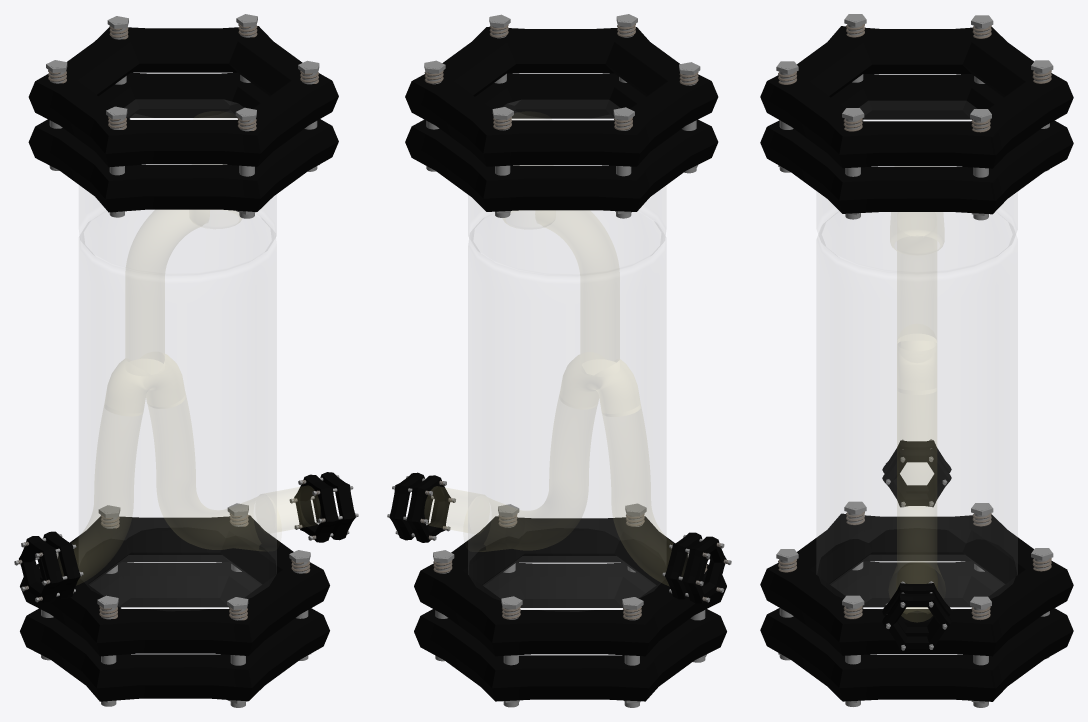
Rendered from ProductCooler(1).fbx.
The picture shows the model from 3 angles, left to right: view 1: azimuth 30°, elevation 25°; view 2: azimuth 150°, elevation 25°; view 3: azimuth 270°, elevation 25°; orthographic projection.
Visible parts, largest first — view 1: pCylinder17, pasted__t1 (×4), pasted__t2 (×4), pCylinder14, pCylinder12, pCylinder2, pCylinder8, pCylinder18; view 2: pCylinder17, pasted__t1 (×4), pasted__t2 (×4), pCylinder14, pCylinder2, pCylinder12, pCylinder8, pCylinder18; view 3: pCylinder17, pasted__t1 (×4), pasted__t2 (×4), pCylinder14, pCylinder12, pCylinder10, pCylinder8, pCylinder18.
Boxes of the visible parts, left/top/right/bottom form: pCylinder17: left=79, top=100, right=276, bottom=608; pasted__t1 (×4): left=19, top=26, right=338, bottom=656; pasted__t2 (×4): left=20, top=72, right=355, bottom=701; pCylinder14: left=148, top=398, right=261, bottom=550; pCylinder12: left=126, top=210, right=209, bottom=362; pCylinder2: left=72, top=408, right=142, bottom=584; pCylinder8: left=105, top=354, right=184, bottom=407; pCylinder18: left=261, top=486, right=319, bottom=531; pCylinder17: left=468, top=101, right=665, bottom=609; pasted__t1 (×4): left=405, top=27, right=726, bottom=656; pasted__t2 (×4): left=389, top=73, right=726, bottom=701; pCylinder14: left=482, top=399, right=596, bottom=551; pCylinder2: left=603, top=409, right=672, bottom=585; pCylinder12: left=535, top=211, right=619, bottom=362; pCylinder8: left=560, top=355, right=639, bottom=408; pCylinder18: left=425, top=486, right=484, bottom=532; pCylinder17: left=817, top=119, right=1017, bottom=608; pasted__t1 (×4): left=760, top=26, right=1073, bottom=656; pasted__t2 (×4): left=760, top=74, right=1073, bottom=701; pCylinder14: left=894, top=391, right=939, bottom=573; pCylinder12: left=897, top=236, right=936, bottom=339; pCylinder10: left=890, top=212, right=943, bottom=249; pCylinder8: left=897, top=341, right=936, bottom=385; pCylinder18: left=897, top=561, right=937, bottom=621.
Bounding box in the file's own units: 36.58 × 65.22 × 31.09.
